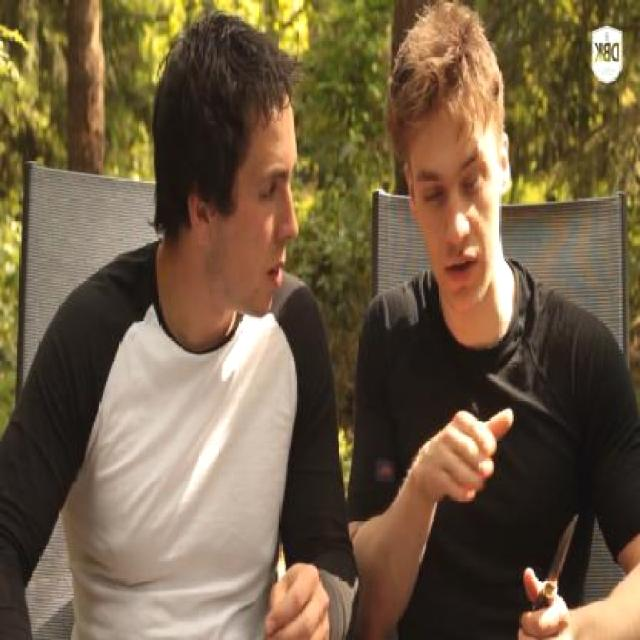knife: (512, 498, 586, 640)
